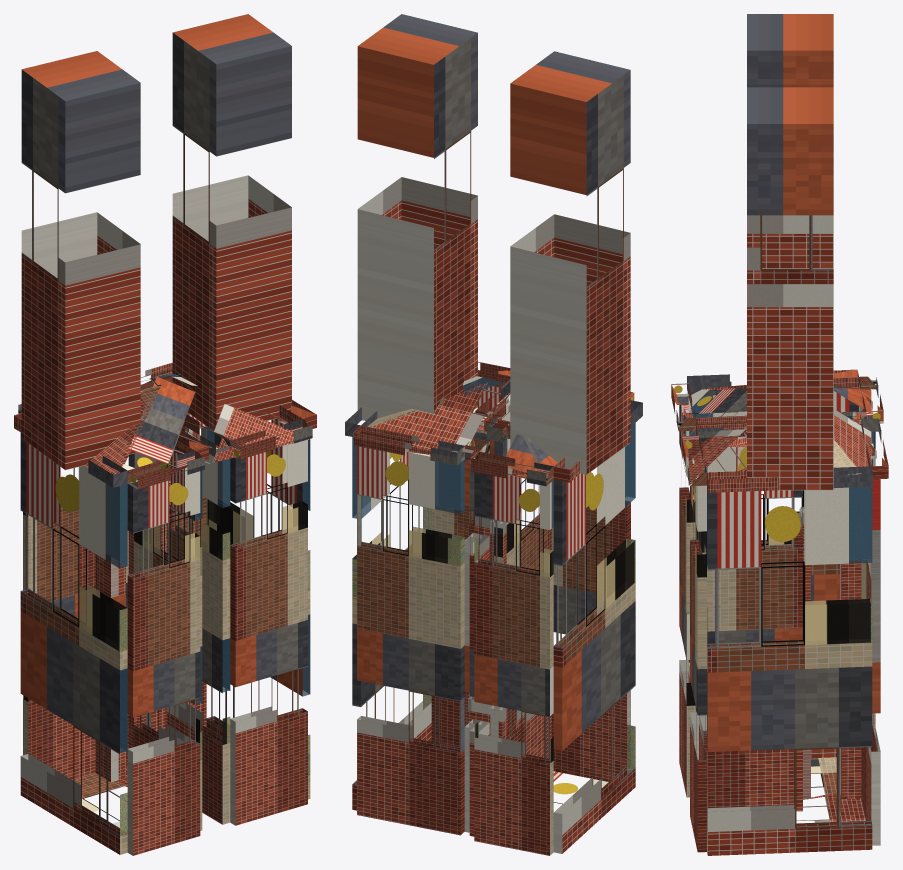
3 renders of one model, left to right at view 1: azimuth 30°, elevation 25°; view 2: azimuth 150°, elevation 25°; view 3: azimuth 270°, elevation 25°, orthographic.
Visible parts, largest first — view 1: 1250956204__chimney_0_xb, 1250956204__chimney_1_xb, 1250956204__wall_6_xb, 1250956204__wall_13_xb, 1250956204__wall_5_xb, 1250956204__wall_0_xb, 1250956204__wall_7_xb, 1250956204_roof_front_xb, 1250956204__wall_6_xf, 1250956204__wall_12_xb, 1250956204__wall_4_xb, 1250956204__wall_0_xf (+15 smaller); view 2: 1250956204__chimney_0_xb, 1250956204__chimney_1_xb, 1250956204__wall_11_xb, 1250956204__wall_7_xb, 1250956204__wall_6_xb, 1250956204__wall_5_xb, 1250956204_roof_back_xb, 1250956204__wall_12_xb, 1250956204__wall_4_xb, 1250956204__wall_11_xf, 1250956204__wall_6_xf, 1250956204__wall_13_xb (+13 smaller); view 3: 1250956204__wall_12_xb, 1250956204__chimney_1_xb, 1250956204__wall_0_xb, 1250956204__chimney_0_xb, 1250956204__wall_13_xb, 1250956204__wall_12_xf, 1250956204__wall_11_xb, 1250956204__wall_5_xb, 1250956204_roof_front_xb, 1250956204__wall_6_xb, 1250956204__cornice_12, 1250956204_roof_back_xb (+11 smaller).
Boxes of the visible parts, box(x1,y1,x2,y2) form: 1250956204__chimney_0_xb: box(21, 51, 140, 470); 1250956204__chimney_1_xb: box(172, 14, 291, 431); 1250956204__wall_6_xb: box(20, 432, 127, 854); 1250956204__wall_13_xb: box(230, 440, 307, 825); 1250956204__wall_5_xb: box(127, 467, 200, 855); 1250956204__wall_0_xb: box(167, 430, 230, 824); 1250956204__wall_7_xb: box(23, 467, 95, 779); 1250956204_roof_front_xb: box(122, 377, 311, 482); 1250956204__wall_6_xf: box(79, 484, 127, 835); 1250956204__wall_12_xb: box(206, 418, 310, 799); 1250956204__wall_4_xb: box(134, 451, 202, 830); 1250956204__wall_0_xf: box(201, 459, 229, 744); 1250956204__chimney_0_xb: box(510, 51, 630, 474); 1250956204__chimney_1_xb: box(357, 14, 477, 420); 1250956204__wall_11_xb: box(357, 446, 464, 835); 1250956204__wall_7_xb: box(474, 472, 553, 855); 1250956204__wall_6_xb: box(553, 423, 635, 853); 1250956204__wall_5_xb: box(551, 501, 630, 781); 1250956204_roof_back_xb: box(371, 382, 540, 478); 1250956204__wall_12_xb: box(352, 437, 431, 810); 1250956204__wall_4_xb: box(494, 438, 551, 758); 1250956204__wall_11_xf: box(409, 461, 464, 565); 1250956204__wall_6_xf: box(597, 423, 635, 767); 1250956204__wall_13_xb: box(431, 383, 501, 747); 1250956204__wall_12_xb: box(707, 486, 872, 855); 1250956204__chimney_1_xb: box(747, 87, 833, 490); 1250956204__wall_0_xb: box(698, 446, 802, 811); 1250956204__chimney_0_xb: box(747, 14, 833, 268); 1250956204__wall_13_xb: box(690, 475, 706, 852); 1250956204__wall_12_xf: box(707, 487, 871, 812); 1250956204__wall_11_xb: box(861, 436, 880, 845); 1250956204__wall_5_xb: box(679, 396, 695, 797); 1250956204_roof_front_xb: box(688, 387, 746, 484); 1250956204__wall_6_xb: box(687, 391, 858, 758); 1250956204__cornice_12: box(707, 466, 872, 492); 1250956204_roof_back_xb: box(833, 388, 871, 466).
Bounding box in the file's own units: 0.4609 × 1.4 × 0.3763.
1 material, 1 textured.
